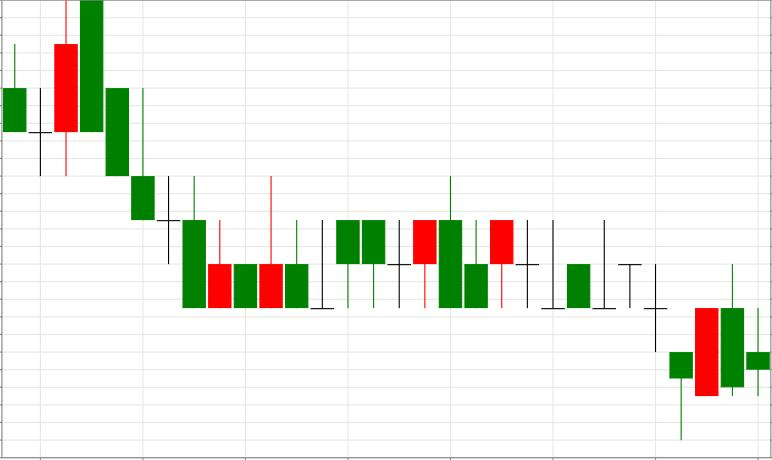hammer_rise: (541, 219, 693, 440)
inverse_hammer_rise: (80, 1, 283, 307)
